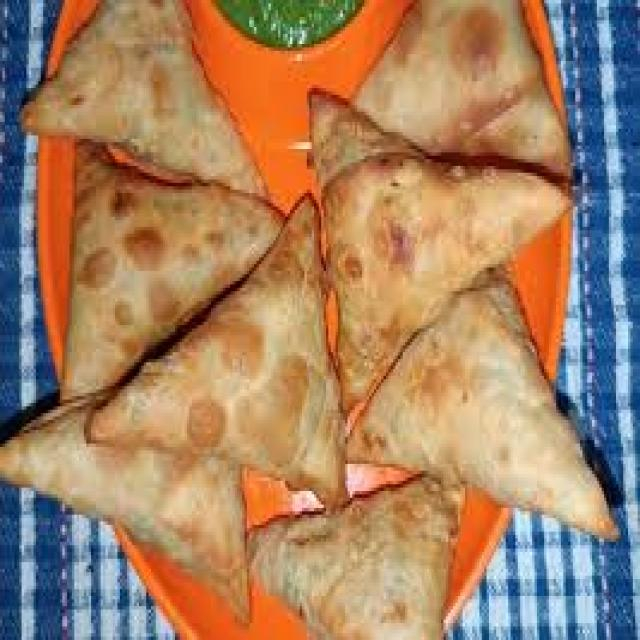SAMOSA: (309, 95, 579, 411), (82, 195, 348, 506), (343, 261, 618, 541), (0, 396, 254, 622), (65, 139, 287, 397), (22, 0, 276, 194), (357, 0, 574, 174), (248, 472, 459, 637)
